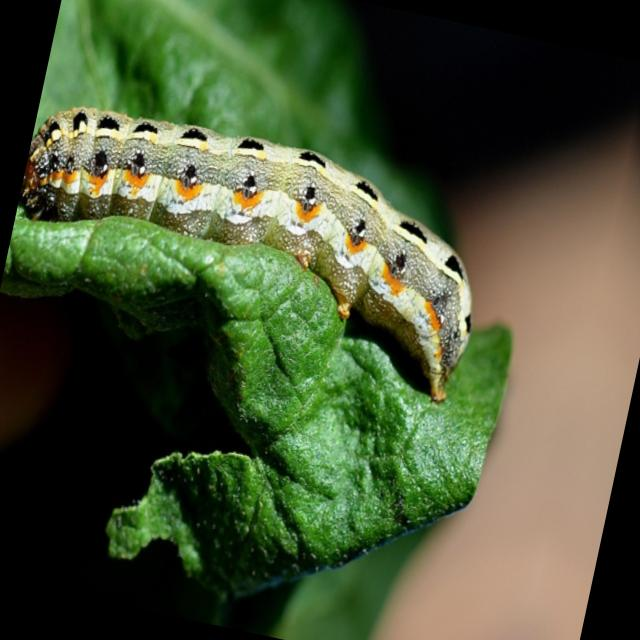Armyworm: (1, 52, 528, 438)
